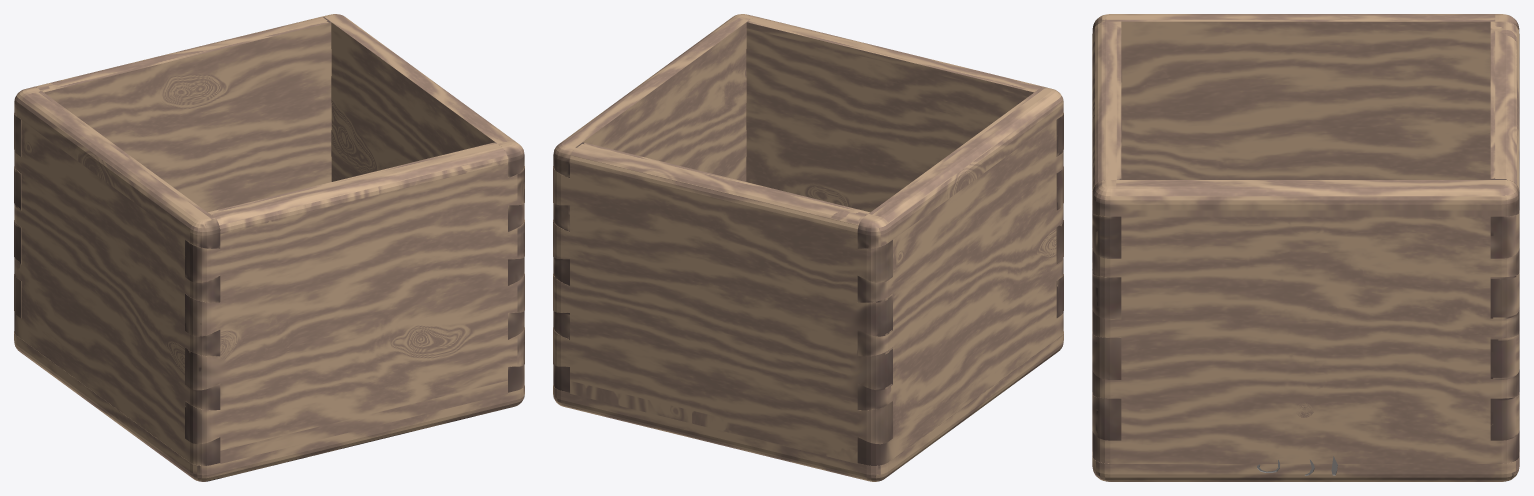
The model's file is vanhalaatikko.fbx.
3 views of the same model, side by side, from view 1: azimuth 30°, elevation 25°; view 2: azimuth 150°, elevation 25°; view 3: azimuth 270°, elevation 25° (orthographic). The views are drawn at different scales.
Visible parts, largest first — view 1: Cube.001, Cube.004, Cube.003, Cube.005, Cube.007; view 2: Cube.003, Cube.004, Cube.001, Cube.005, Cube.007; view 3: Cube.005, Cube.004, Cube.003, Cube.001, Cube.007.
Boxes of the visible parts, x1,y1,x2,y2 form: Cube.001: (185,142,524,463); Cube.004: (14,86,220,465); Cube.003: (14,16,331,317); Cube.005: (323,14,524,392); Cube.007: (14,331,524,481); Cube.003: (553,142,892,463); Cube.004: (857,86,1063,465); Cube.001: (746,16,1063,317); Cube.005: (553,14,754,392); Cube.007: (553,331,1063,481); Cube.005: (1092,180,1519,464); Cube.004: (1092,14,1519,179); Cube.003: (1490,21,1519,451); Cube.001: (1092,21,1121,451); Cube.007: (1092,452,1519,481).
Size of the model in its own units: 372 by 279 by 367.
Materials: 2 (1 with a texture image).
